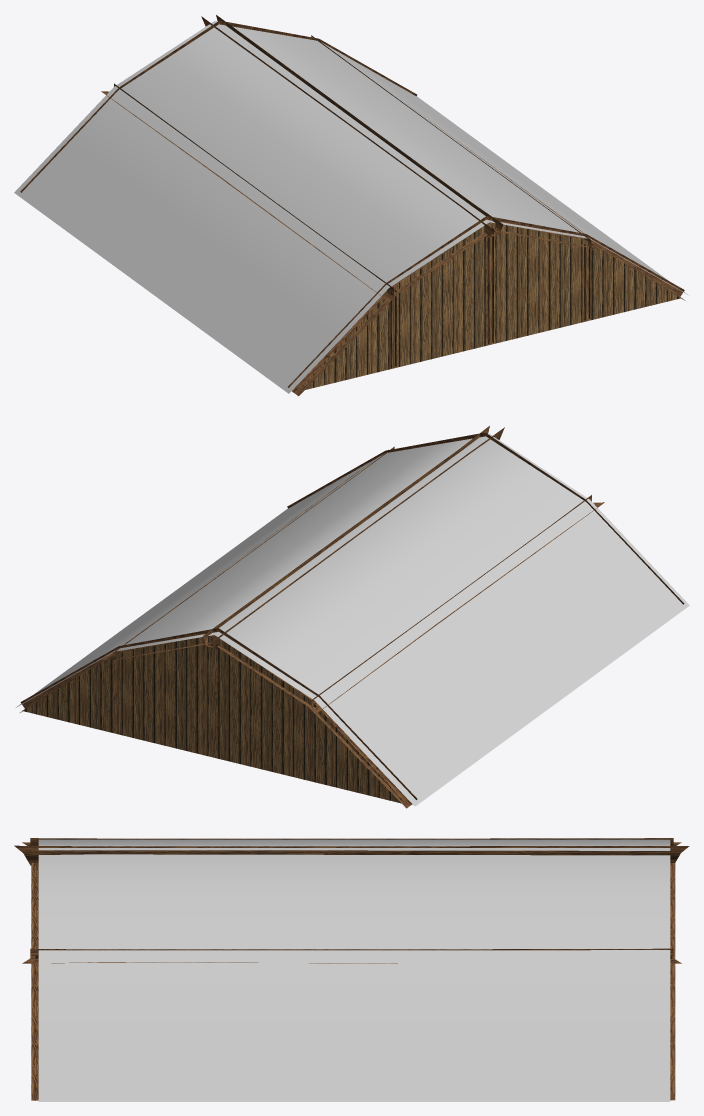
The model's file is LAKETOWN_WAREHOUSE2_PS_WH2_BARNROOF9948__GX.obj.
3 renders of one model, top to bottom at view 1: azimuth 30°, elevation 25°; view 2: azimuth 150°, elevation 25°; view 3: azimuth 270°, elevation 25°, orthographic. The views are drawn at different scales.
Visible parts, largest first — view 1: ArnRoof9948__GX; view 2: ArnRoof9948__GX; view 3: ArnRoof9948__GX.
Part boxes in pixels (x1=…): ArnRoof9948__GX: x1=14, y1=15, x2=688, y2=396; ArnRoof9948__GX: x1=16, y1=426, x2=689, y2=808; ArnRoof9948__GX: x1=14, y1=838, x2=689, y2=1101.
Size of the model in its own units: 2006 by 613 by 2550.
